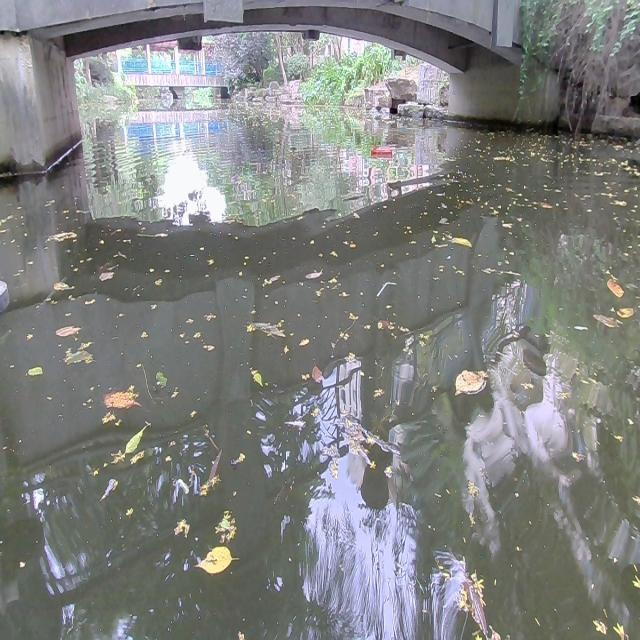bottle: (370, 144, 392, 157)
